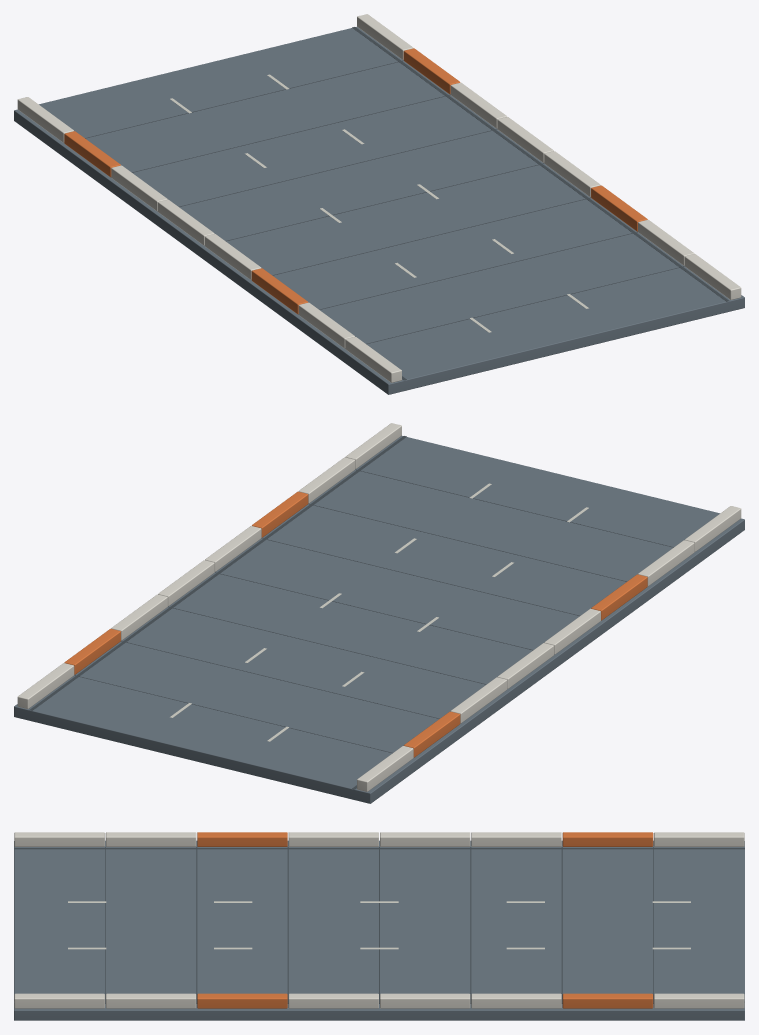
The model's file is OrangeRoadStraight.fbx.
3 renders of one model, top to bottom at view 1: azimuth 30°, elevation 25°; view 2: azimuth 150°, elevation 25°; view 3: azimuth 270°, elevation 25°, orthographic. The views are drawn at different scales.
Parts seen in each view (by area): view 1: OrangeRoadStraight_OE_RoadDeck, OrangeRoadStraight_OE_RoadIvory, OrangeRoadStraight_OE_RoadJoint, OrangeRoadStraight_OE_RoadOrange, OrangeRoadStraight_OE_RoadPaint; view 2: OrangeRoadStraight_OE_RoadDeck, OrangeRoadStraight_OE_RoadIvory, OrangeRoadStraight_OE_RoadJoint, OrangeRoadStraight_OE_RoadOrange, OrangeRoadStraight_OE_RoadPaint; view 3: OrangeRoadStraight_OE_RoadDeck, OrangeRoadStraight_OE_RoadIvory, OrangeRoadStraight_OE_RoadOrange, OrangeRoadStraight_OE_RoadJoint, OrangeRoadStraight_OE_RoadPaint.
Part boxes in pixels (<box>): OrangeRoadStraight_OE_RoadDeck: <box>14,27,744,394</box>; OrangeRoadStraight_OE_RoadIvory: <box>17,14,741,382</box>; OrangeRoadStraight_OE_RoadJoint: <box>85,27,728,380</box>; OrangeRoadStraight_OE_RoadOrange: <box>64,48,647,314</box>; OrangeRoadStraight_OE_RoadPaint: <box>170,74,588,332</box>; OrangeRoadStraight_OE_RoadDeck: <box>14,436,744,803</box>; OrangeRoadStraight_OE_RoadIvory: <box>17,423,741,791</box>; OrangeRoadStraight_OE_RoadJoint: <box>30,436,673,789</box>; OrangeRoadStraight_OE_RoadOrange: <box>64,491,647,757</box>; OrangeRoadStraight_OE_RoadPaint: <box>170,483,588,741</box>; OrangeRoadStraight_OE_RoadDeck: <box>14,840,744,1020</box>; OrangeRoadStraight_OE_RoadIvory: <box>14,832,744,1008</box>; OrangeRoadStraight_OE_RoadOrange: <box>197,832,653,1008</box>; OrangeRoadStraight_OE_RoadJoint: <box>14,847,744,1003</box>; OrangeRoadStraight_OE_RoadPaint: <box>68,901,690,949</box>.
Size of the model in its own units: 1100 by 63 by 2000.
